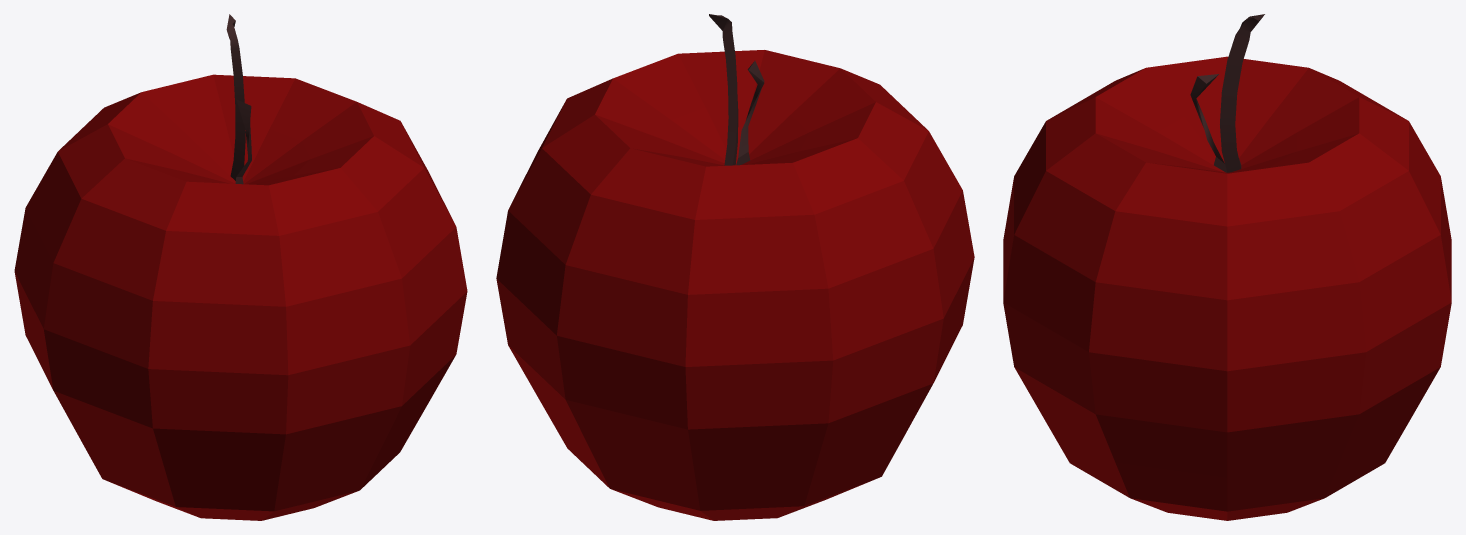
File: prop_red_apple.fbx
3 views of the same model, side by side, from view 1: azimuth 30°, elevation 25°; view 2: azimuth 150°, elevation 25°; view 3: azimuth 270°, elevation 25° (orthographic). The views are drawn at different scales.
Parts seen in each view (by area): view 1: pSphere2; view 2: pSphere2; view 3: pSphere2.
Boxes of the visible parts, left/top/right/bottom form: pSphere2: left=14, top=14, right=467, bottom=520; pSphere2: left=496, top=14, right=974, bottom=520; pSphere2: left=1003, top=14, right=1451, bottom=520.
Bounding box in the file's own units: 9.79 × 10.7 × 9.31.
